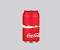coke: (25, 29, 40, 42)
